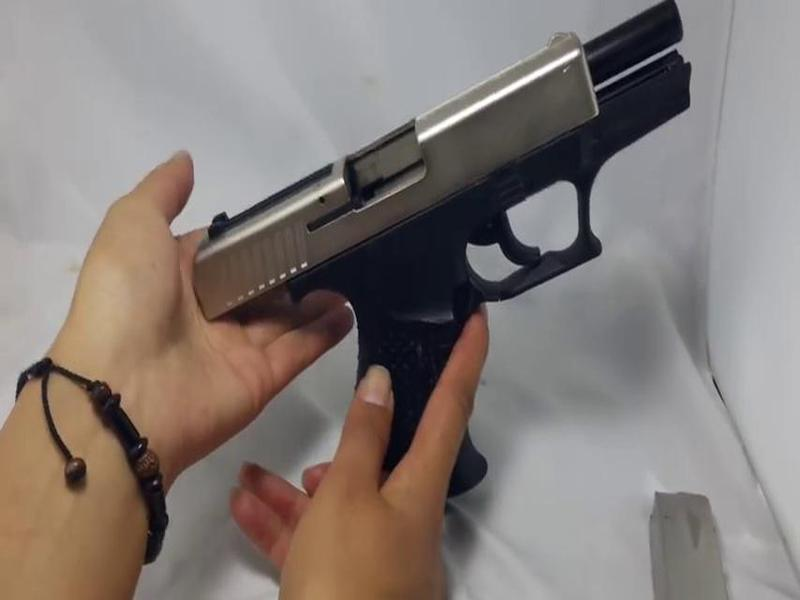Pistola: (197, 1, 732, 509)
